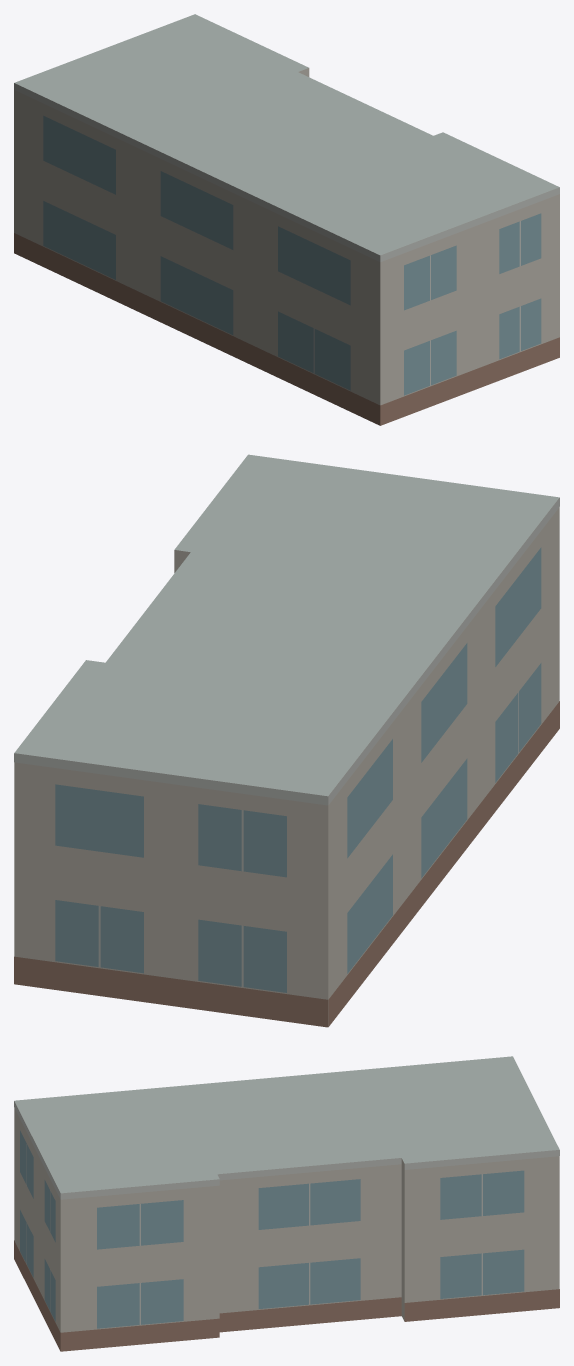
The model's file is survey-upis-32698524.glb.
3 views of the same model, one above another, from view 1: azimuth 30°, elevation 25°; view 2: azimuth 150°, elevation 25°; view 3: azimuth 270°, elevation 25° (orthographic). The views are drawn at different scales.
Parts seen in each view (by area): view 1: survey-upis-32698524.tmp; view 2: survey-upis-32698524.tmp; view 3: survey-upis-32698524.tmp.
Part boxes in pixels (x1,y1,x2,y2): survey-upis-32698524.tmp: (14, 14, 559, 425); survey-upis-32698524.tmp: (14, 454, 559, 1027); survey-upis-32698524.tmp: (14, 1056, 559, 1351).
Bounding box in the file's own units: 11.34 × 6.1 × 19.08.
